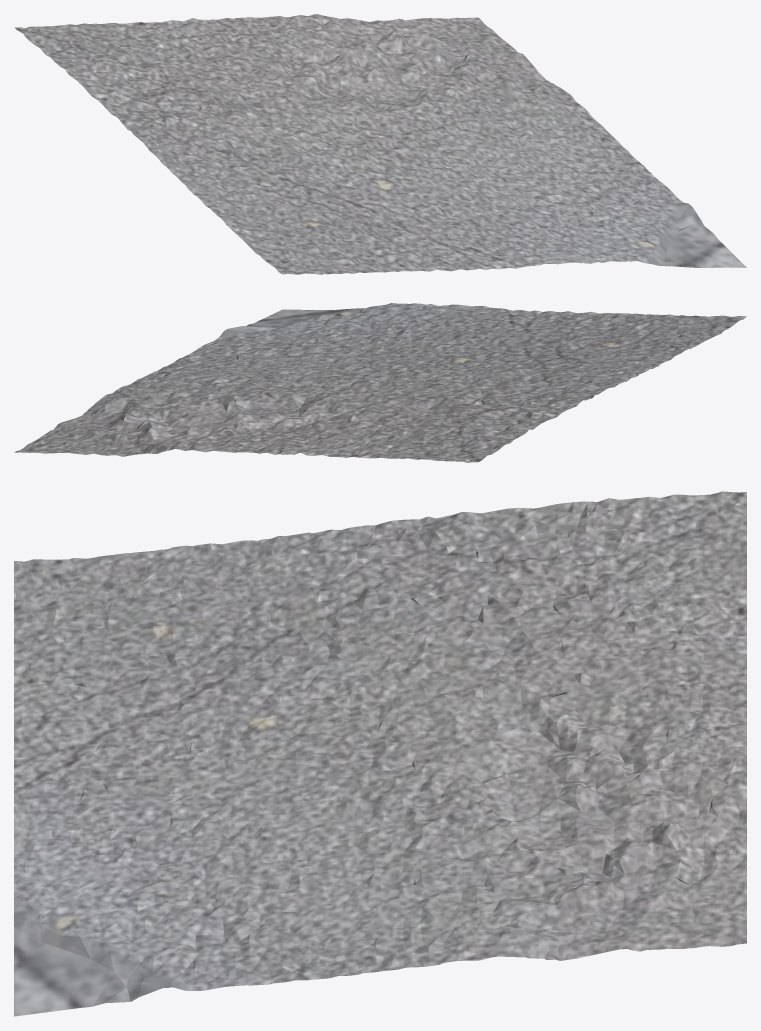
3 views of the same model, one above another, from view 1: azimuth 30°, elevation 25°; view 2: azimuth 150°, elevation 25°; view 3: azimuth 270°, elevation 25° (orthographic). The views are drawn at different scales.
Bounding box in the file's own units: 1.67 × 0.5429 × 1.67.
Materials: 3 (3 with a texture image).
